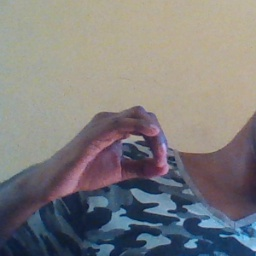O: (62, 100, 178, 196)
